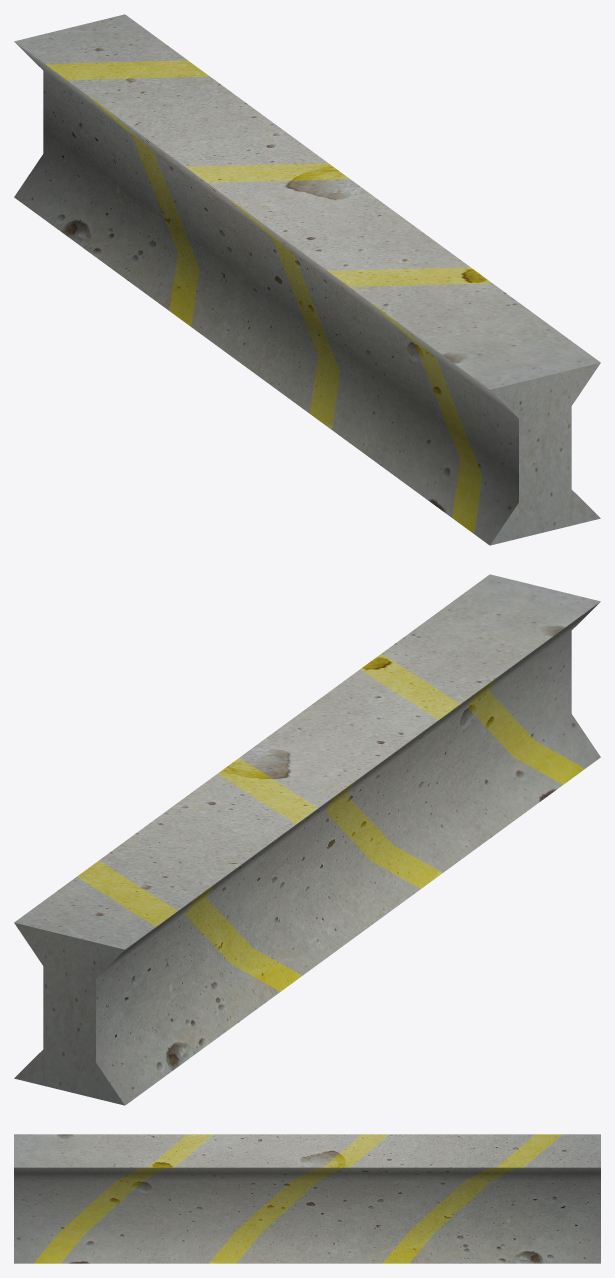
File: Barrier.fbx
The picture shows the model from 3 angles, top to bottom: view 1: azimuth 30°, elevation 25°; view 2: azimuth 150°, elevation 25°; view 3: azimuth 270°, elevation 25°; orthographic projection. The views are drawn at different scales.
Parts seen in each view (by area): view 1: pCube2; view 2: pCube2; view 3: pCube2.
Boxes of the visible parts, bbox=[...] form: pCube2: bbox=[14, 14, 600, 545]; pCube2: bbox=[14, 574, 600, 1105]; pCube2: bbox=[14, 1134, 600, 1263].
Size of the model in its own units: 78.55 by 105 by 583.
Materials: 1 (1 with a texture image).
